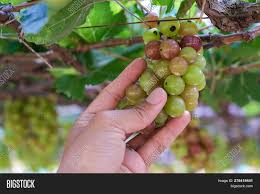grapes: (143, 19, 202, 128)
